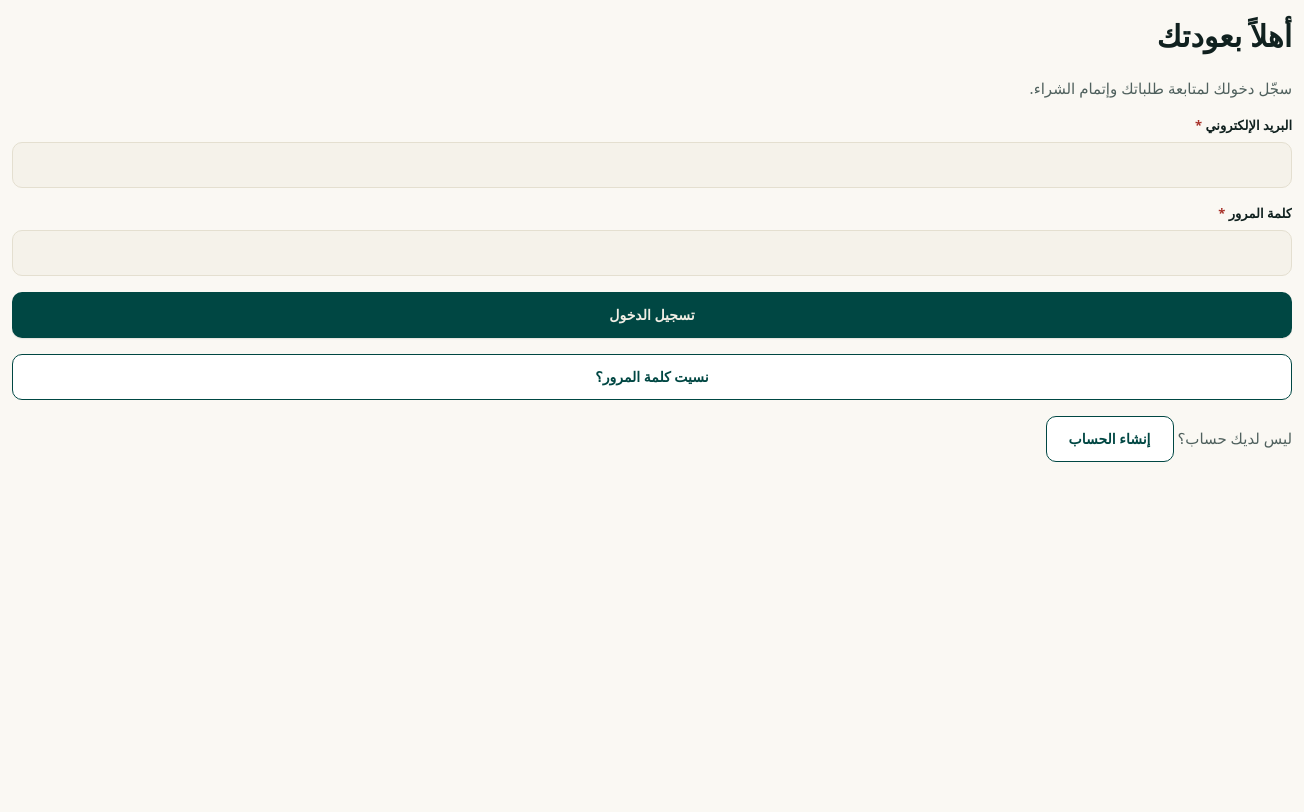
Test case: LoginForm › tells a user with an unconfirmed email to confirm it, then continues
Type "reader@example.com" into the field labelled "البريد الإلكتروني *".
click(652, 165); type("reader@example.com")  # box [12,142,1292,188]
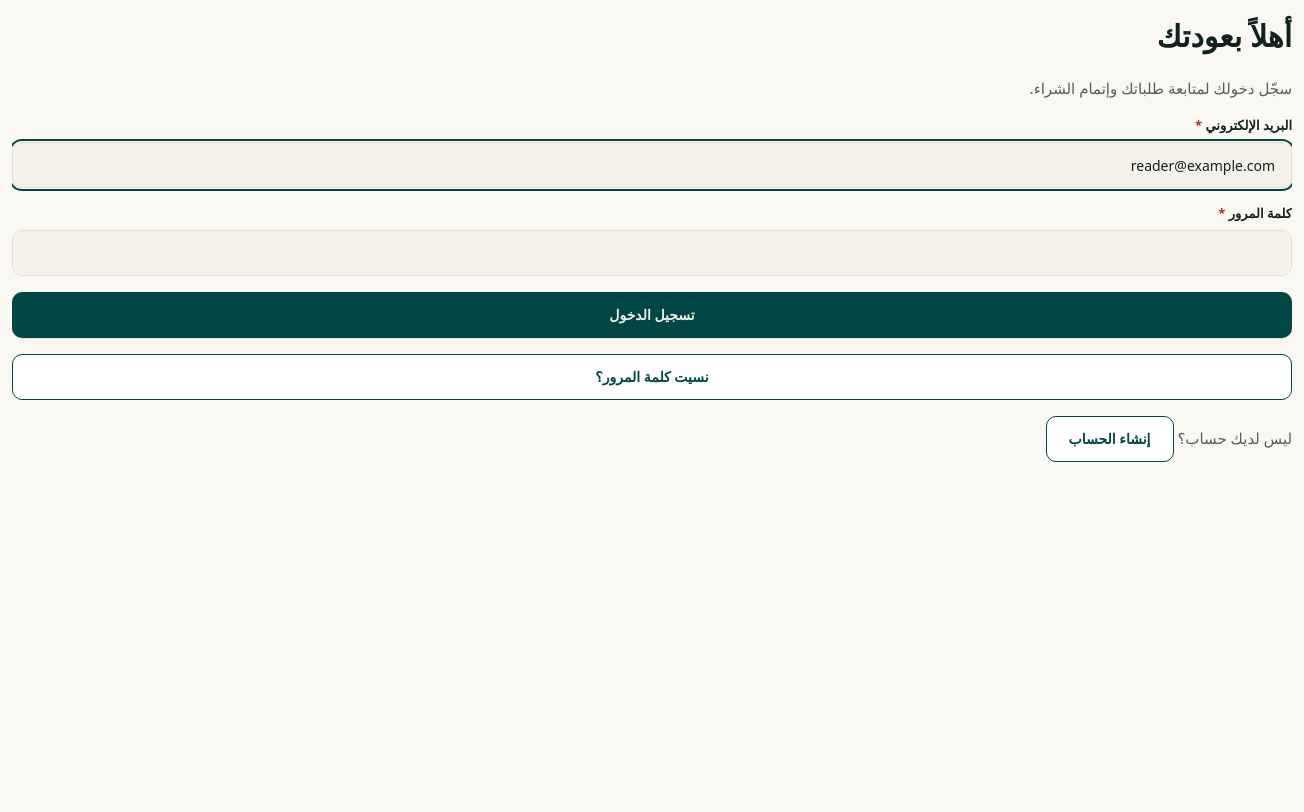
Type "a-fake-password" into the password field labelled "كلمة المرور *".
click(652, 253); type("a-fake-password")  # box [12,230,1292,276]
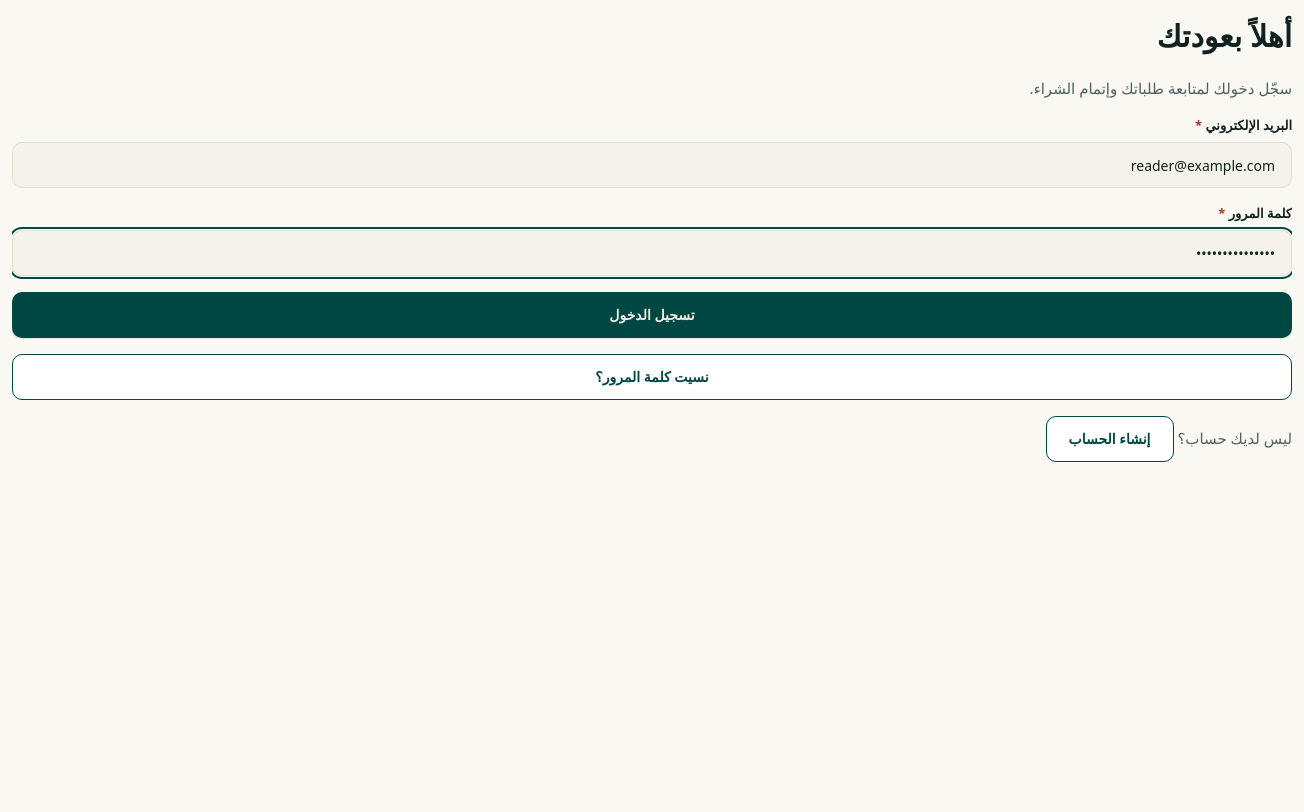
Click the button "تسجيل الدخول".
click(652, 315)  # box [12,292,1292,338]
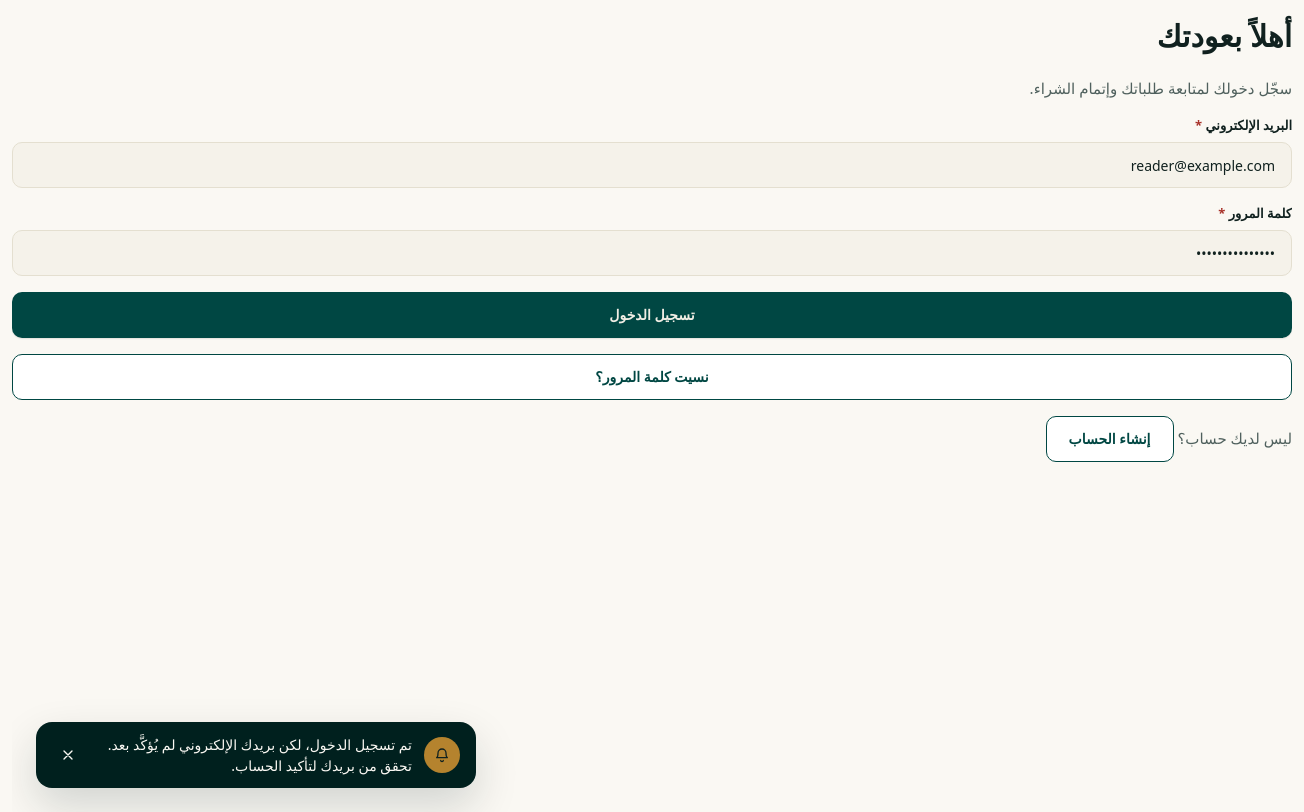
Now the text "تم تسجيل الدخول، لكن بريدك الإلكتروني لم يُؤكَّد بعد. تحقق من بريدك لتأكيد الحساب." is shown, box [108,735,412,775]
